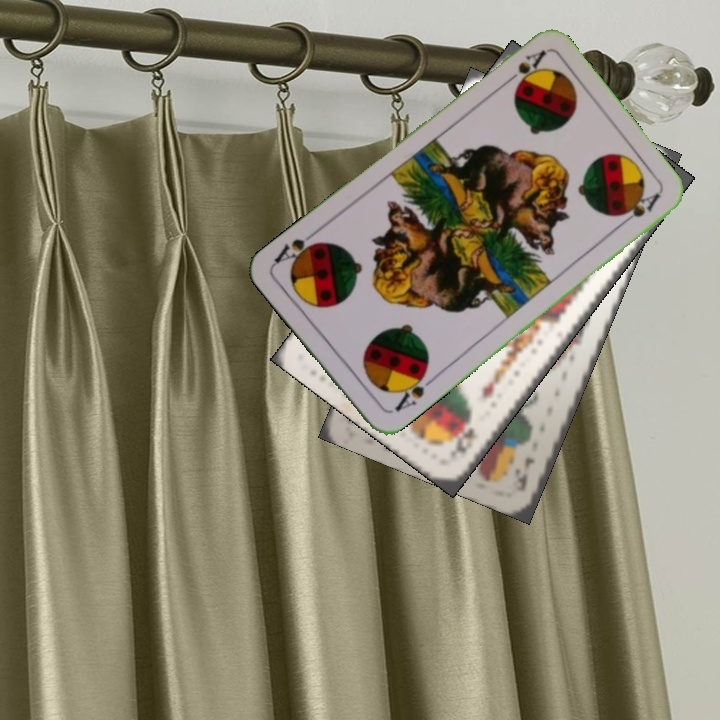EK: (508, 453, 538, 494)
SA: (386, 366, 437, 415), (499, 46, 549, 92)
SK: (447, 424, 478, 460)
